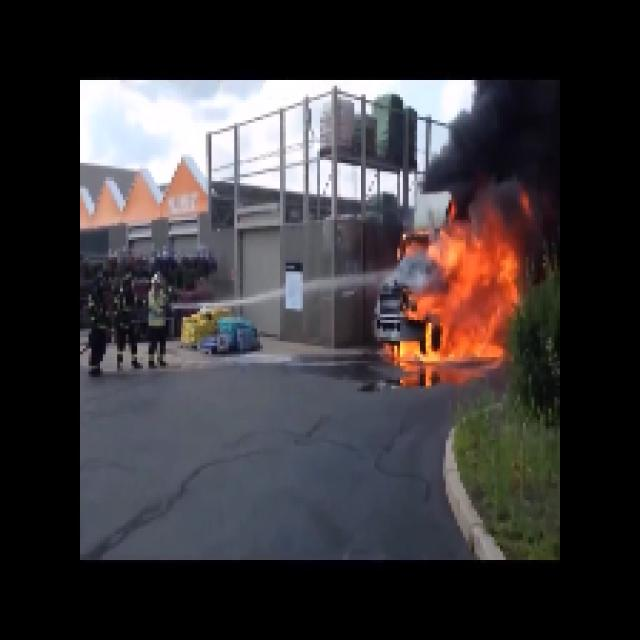fire: (416, 243, 514, 371)
smoke: (470, 84, 544, 218)
